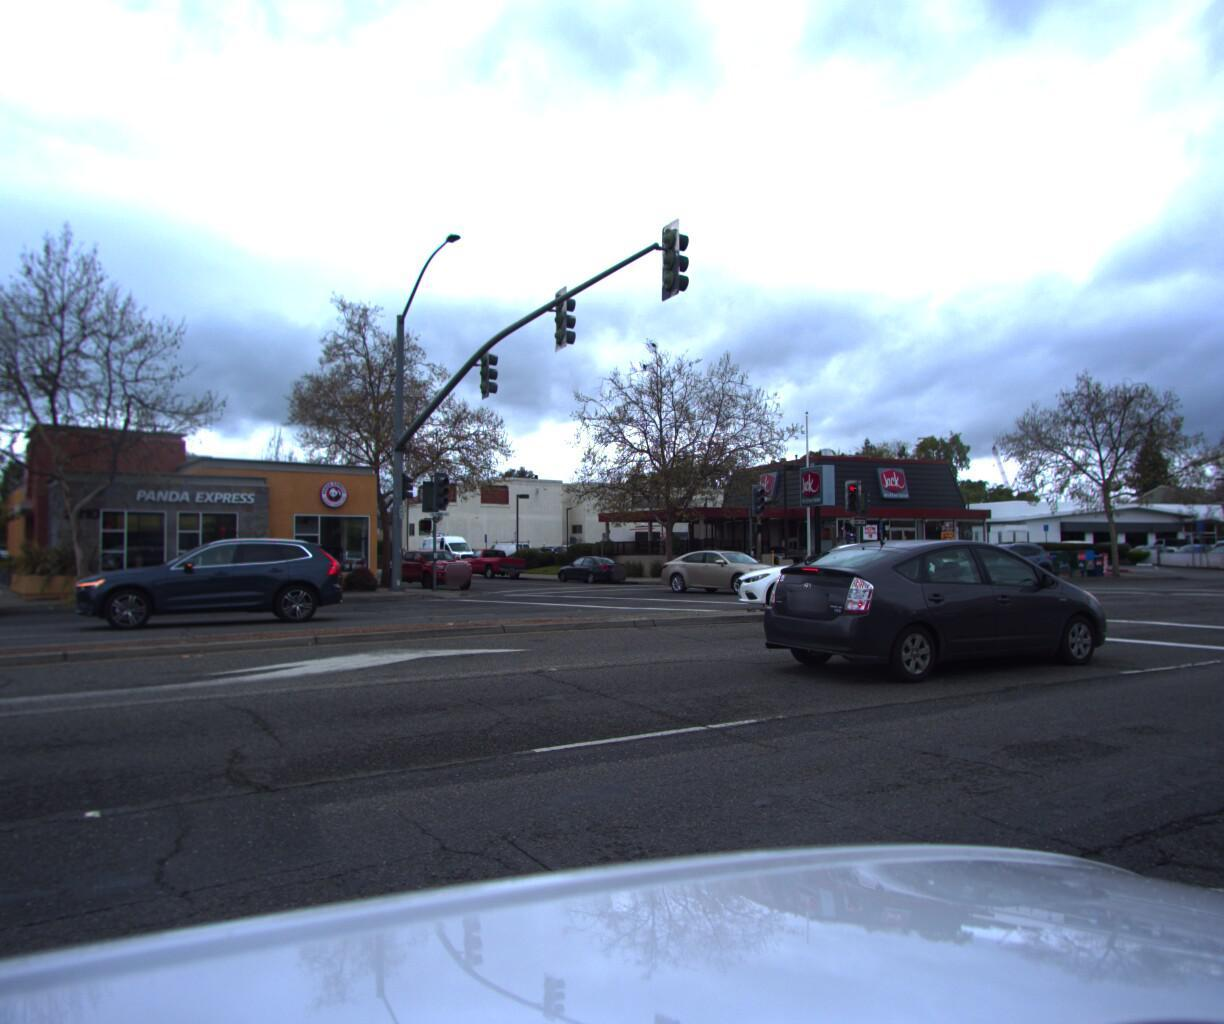car: (735, 536, 1128, 701), (61, 536, 343, 640), (727, 544, 962, 621), (654, 557, 798, 606), (935, 548, 1055, 595), (379, 557, 479, 602), (456, 555, 530, 591), (555, 564, 628, 596), (1124, 542, 1194, 568), (1047, 546, 1105, 573), (0, 560, 12, 643), (1214, 551, 1224, 596)
truck: (420, 540, 479, 577)
